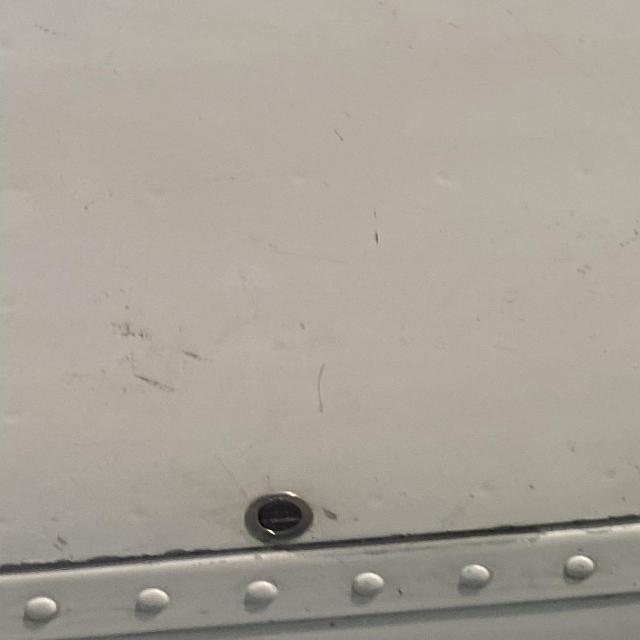Paint-off: (314, 505, 347, 526)
